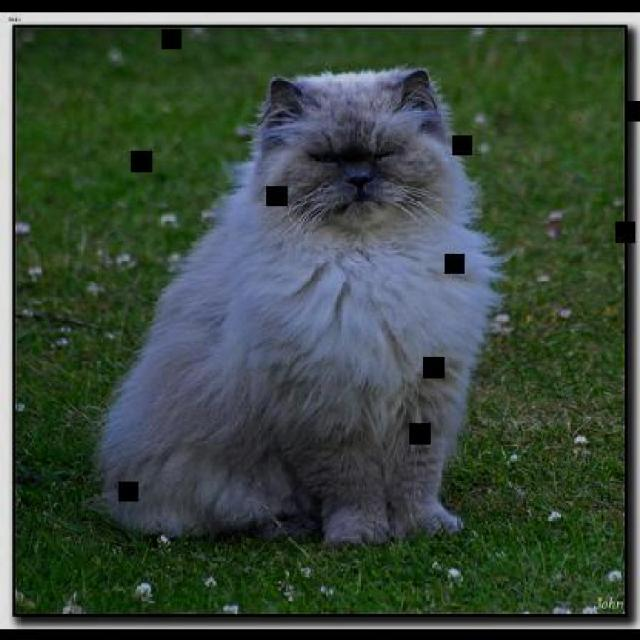unauthorized: (86, 65, 511, 548)
